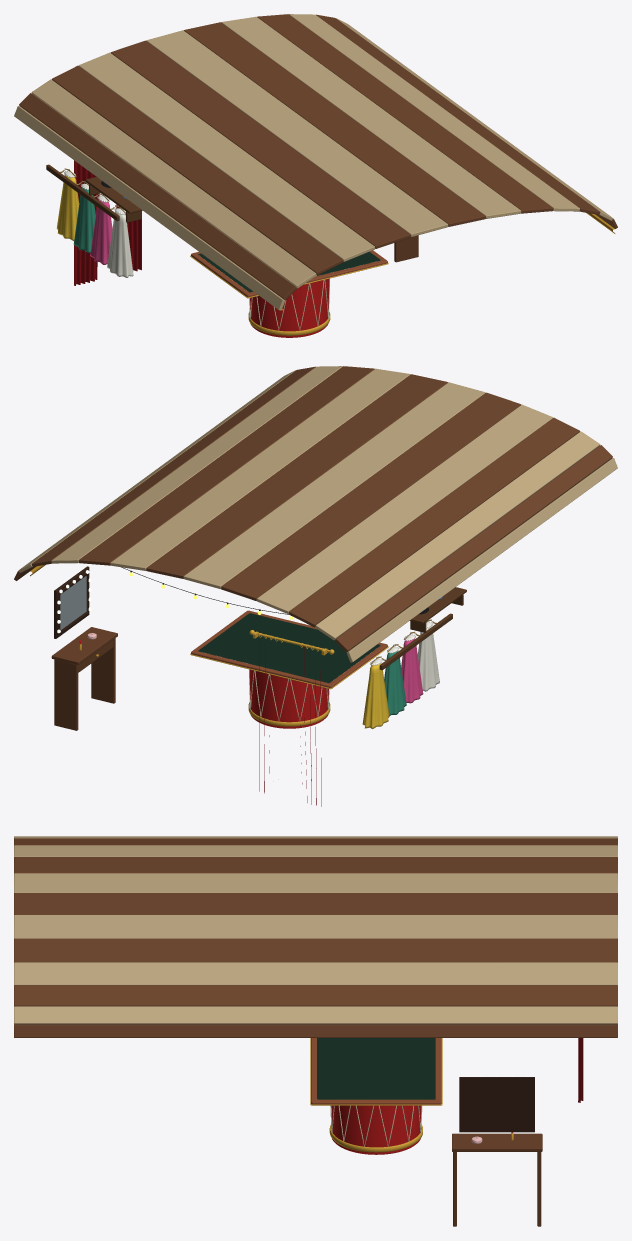
Rendered from circus.glb.
3 views of the same model, one above another, from view 1: azimuth 30°, elevation 25°; view 2: azimuth 150°, elevation 25°; view 3: azimuth 270°, elevation 25° (orthographic). The views are drawn at different scales.
Parts seen in each view (by area): view 1: Decke_Hell, Decke_Dunkel, Trommel, Vorhang, Kostuemleiste, Kostuem_3, Kostuem_0, Kostuem_2, Kostuem_1, Tischplatte, Tischtuch, Trommel_Schnuerung (+2 smaller); view 2: Decke_Hell, Decke_Dunkel, Tischtuch, Schminktisch, Trommel, Tischplatte, Kostuemleiste, Kostuem_0, Spiegelglas, Kostuem_1, Kostuem_2, Kostuem_3 (+3 smaller); view 3: Decke_Dunkel, Decke_Hell, Tischtuch, Spiegelrahmen, Trommel, Schminktisch, Tischplatte, Trommel_Schnuerung, Trommel_Reifen.
Part boxes in pixels (x1=…): Decke_Hell: x1=14, y1=14, x2=612, y2=310; Decke_Dunkel: x1=19, y1=14, x2=617, y2=300; Trommel: x1=249, y1=279, x2=329, y2=337; Vorhang: x1=74, y1=160, x2=141, y2=285; Kostuemleiste: x1=46, y1=164, x2=142, y2=222; Kostuem_3: x1=107, y1=211, x2=133, y2=277; Kostuem_0: x1=56, y1=175, x2=79, y2=240; Kostuem_2: x1=90, y1=199, x2=112, y2=264; Kostuem_1: x1=73, y1=187, x2=95, y2=253; Tischplatte: x1=191, y1=250, x2=387, y2=297; Tischtuch: x1=198, y1=252, x2=380, y2=292; Trommel_Schnuerung: x1=249, y1=278, x2=329, y2=330; Decke_Hell: x1=19, y1=366, x2=617, y2=662; Decke_Dunkel: x1=14, y1=366, x2=612, y2=652; Tischtuch: x1=198, y1=613, x2=380, y2=682; Schminktisch: x1=51, y1=627, x2=117, y2=730; Trommel: x1=249, y1=669, x2=329, y2=728; Tischplatte: x1=191, y1=610, x2=387, y2=688; Kostuemleiste: x1=379, y1=587, x2=466, y2=670; Kostuem_0: x1=362, y1=663, x2=389, y2=728; Spiegelglas: x1=60, y1=576, x2=86, y2=630; Kostuem_1: x1=384, y1=650, x2=406, y2=715; Kostuem_2: x1=401, y1=638, x2=423, y2=703; Kostuem_3: x1=417, y1=626, x2=439, y2=691; Decke_Dunkel: x1=14, y1=838, x2=617, y2=1037; Decke_Hell: x1=14, y1=836, x2=617, y2=1024; Tischtuch: x1=317, y1=1038, x2=435, y2=1099; Spiegelrahmen: x1=459, y1=1077, x2=534, y2=1132; Trommel: x1=331, y1=1105, x2=421, y2=1154; Schminktisch: x1=452, y1=1133, x2=542, y2=1226; Tischplatte: x1=311, y1=1038, x2=441, y2=1104; Trommel_Schnuerung: x1=330, y1=1105, x2=422, y2=1146; Trommel_Reifen: x1=329, y1=1124, x2=422, y2=1152.
Size of the model in its own units: 4.43 by 2.67 by 6.
